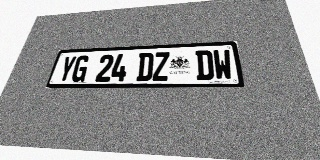2: (95, 54, 115, 82)
4: (110, 54, 129, 82)
D: (195, 50, 214, 80), (136, 52, 154, 81)
G: (70, 55, 90, 82)
W: (212, 49, 233, 80)
Y: (56, 56, 77, 82)
Z: (152, 52, 169, 81)
